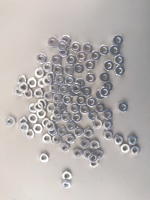nut: (113, 35, 124, 46), (85, 73, 96, 84), (61, 35, 72, 46), (48, 37, 59, 48), (39, 152, 50, 163), (62, 170, 73, 181), (118, 102, 129, 113), (5, 116, 16, 127), (100, 87, 111, 98), (43, 91, 54, 102), (59, 84, 70, 95), (65, 75, 76, 86), (53, 65, 64, 76), (43, 62, 54, 73), (34, 68, 45, 79), (34, 88, 45, 99), (74, 63, 84, 75), (72, 83, 82, 95), (42, 76, 54, 86), (110, 46, 121, 56), (99, 45, 109, 56), (90, 51, 101, 61), (83, 43, 93, 54), (85, 60, 95, 71), (100, 72, 110, 83), (77, 51, 87, 62), (71, 42, 81, 53), (57, 41, 68, 51), (58, 47, 69, 57), (66, 55, 76, 66), (120, 143, 131, 153), (114, 135, 125, 145), (104, 130, 114, 141), (84, 127, 94, 138), (103, 120, 114, 130), (96, 103, 106, 114), (88, 111, 98, 122), (73, 148, 83, 159), (60, 143, 71, 153), (72, 113, 83, 123), (87, 97, 97, 108), (70, 103, 80, 114), (46, 121, 56, 132), (52, 108, 63, 118), (33, 124, 44, 134), (36, 109, 47, 119), (76, 95, 86, 106), (53, 94, 64, 104), (55, 75, 66, 85), (46, 71, 56, 82), (52, 55, 62, 66), (37, 54, 47, 65), (59, 85, 70, 95), (37, 78, 47, 89), (19, 83, 29, 94), (115, 66, 125, 76), (104, 61, 114, 71), (131, 146, 141, 156), (103, 110, 113, 120), (93, 119, 103, 129), (94, 150, 104, 160), (81, 139, 91, 149), (66, 134, 76, 144), (52, 135, 62, 145), (66, 121, 76, 131), (74, 127, 84, 137), (80, 105, 90, 115), (28, 114, 38, 124), (25, 129, 35, 139), (19, 123, 29, 133), (34, 102, 44, 112), (82, 87, 92, 97), (62, 95, 72, 105), (75, 79, 85, 89), (64, 65, 74, 75), (24, 89, 34, 99), (27, 78, 37, 88), (17, 76, 27, 86), (50, 84, 60, 94), (62, 112, 71, 123), (115, 55, 124, 65), (62, 180, 72, 189), (129, 136, 138, 146), (89, 154, 99, 163), (91, 140, 100, 150), (58, 127, 67, 137), (43, 134, 52, 144), (51, 115, 61, 124), (47, 103, 56, 113), (42, 118, 51, 128), (28, 104, 38, 113), (19, 117, 28, 127), (38, 99, 47, 109), (58, 103, 67, 113), (104, 82, 113, 92), (95, 90, 104, 100), (14, 87, 23, 97), (90, 159, 99, 168), (69, 88, 78, 97), (48, 128, 58, 136), (84, 150, 92, 159)
